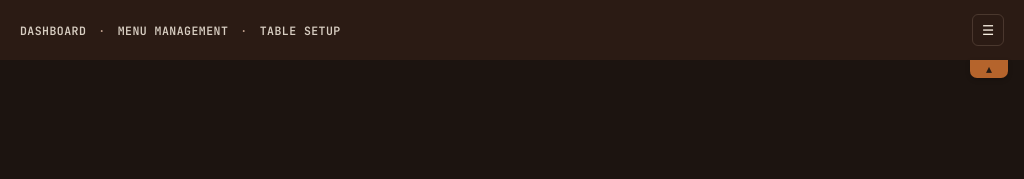
Test case: StaffBar menu (hamburger) › closes the menu after clicking a link inside it
Click the button named "Show menu".
click(988, 30)  # box [972,14,1004,46]
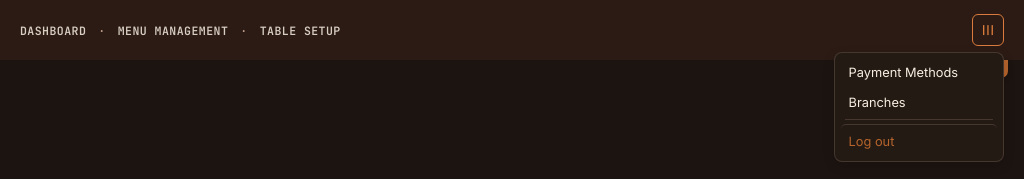
Click the menu item "Branches".
click(877, 102)  # box [849,95,906,110]
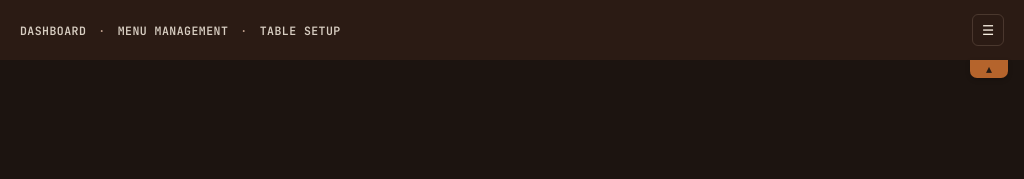
Expected: the menu is gone
